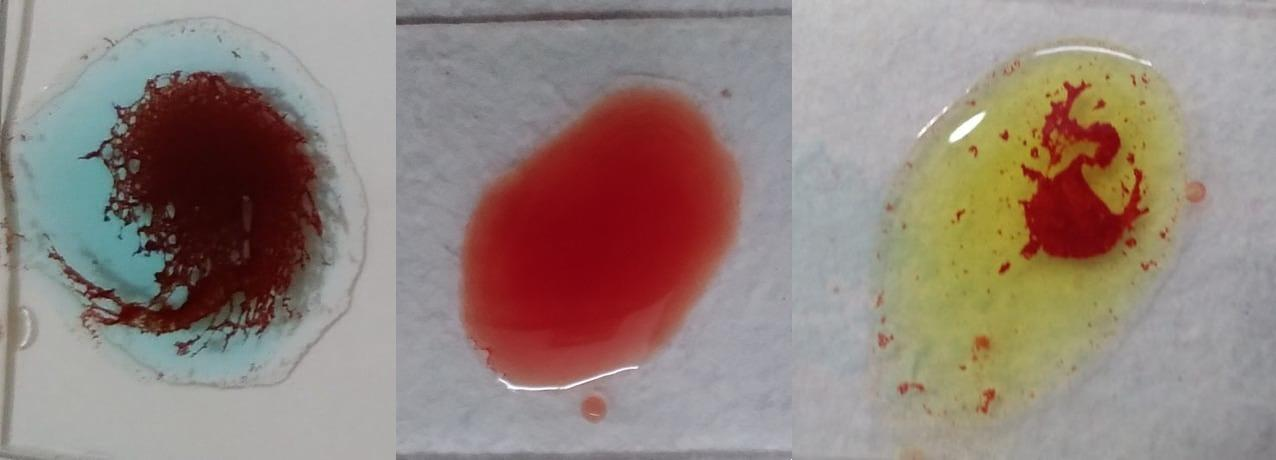A: (45, 14, 357, 391)
B: (876, 32, 1183, 418)
